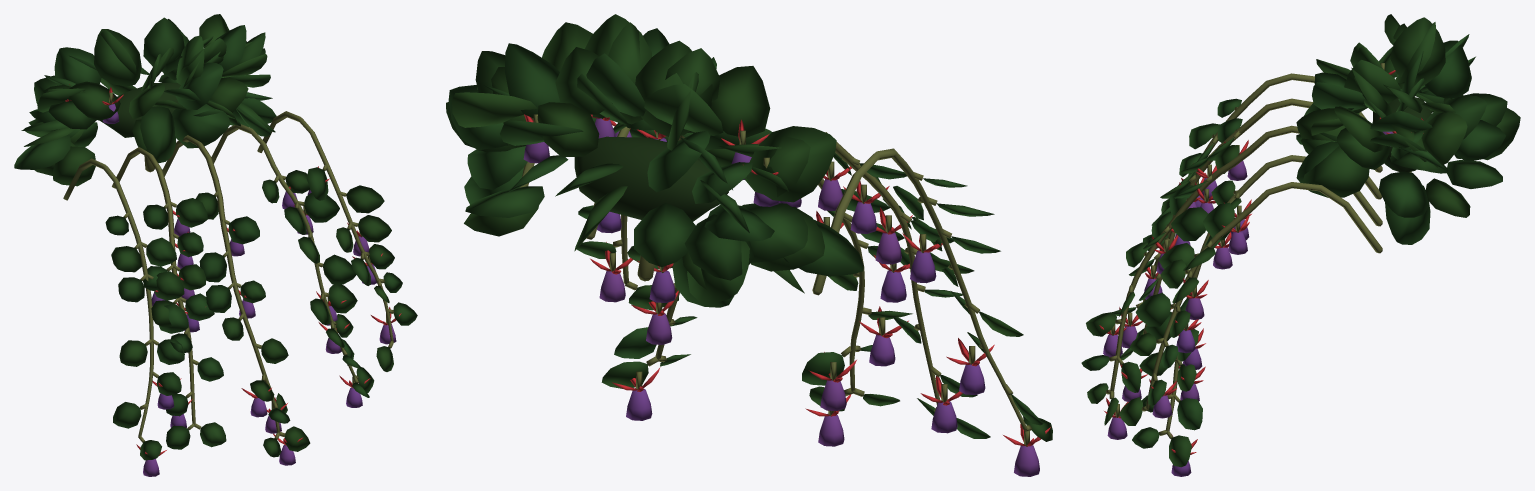
The model's file is box_fuchsia_red.glb.
3 renders of one model, left to right at view 1: azimuth 30°, elevation 25°; view 2: azimuth 150°, elevation 25°; view 3: azimuth 270°, elevation 25°, orthographic. The views are drawn at different scales.
Visible parts, largest first — view 1: Sammel Pflanze, Sammel Putz, Sammel Blatt; view 2: Sammel Pflanze, Sammel Putz, Sammel Blatt; view 3: Sammel Pflanze, Sammel Putz, Sammel Blatt.
Part boxes in pixels (x1,y1,x2,y2): Sammel Pflanze: (14,14,417,476); Sammel Putz: (63,92,394,445); Sammel Blatt: (100,83,180,137); Sammel Pflanze: (446,14,1052,476); Sammel Putz: (519,114,1032,446); Sammel Blatt: (574,136,728,221); Sammel Pflanze: (1081,14,1520,476); Sammel Putz: (1105,63,1411,438); Sammel Blatt: (1373,97,1431,172).
Size of the model in its own units: 0.3737 by 0.4084 by 0.4143.
